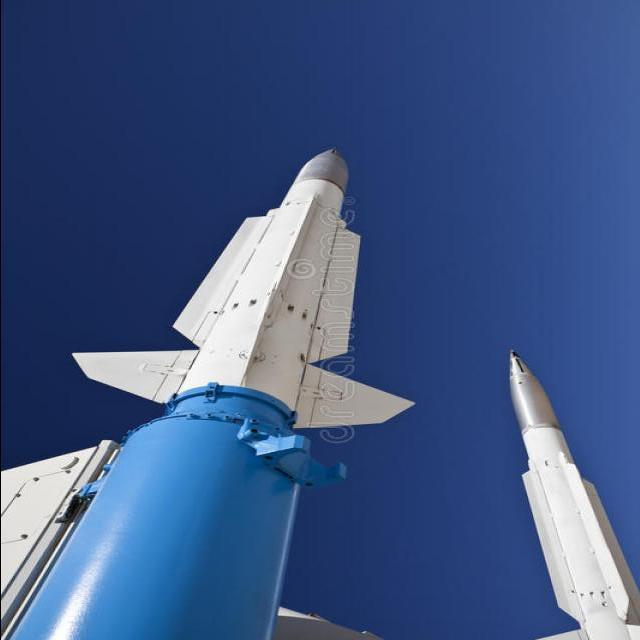missile: (494, 340, 630, 638)
